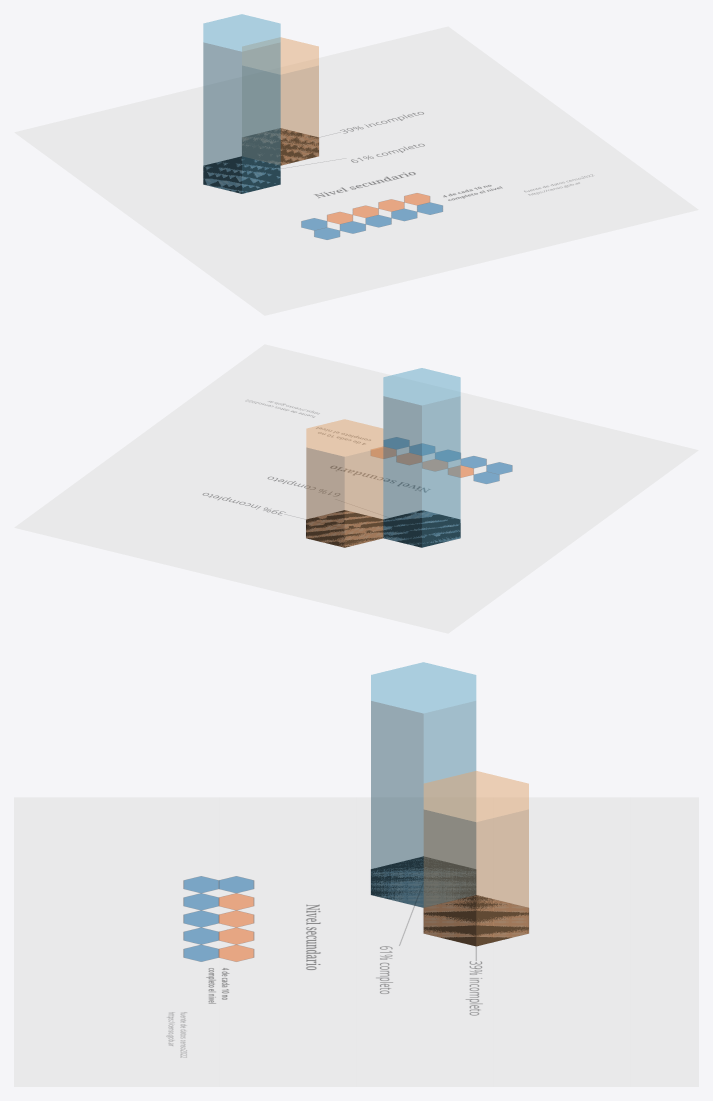
File: secundario.gltf
The picture shows the model from 3 angles, top to bottom: view 1: azimuth 30°, elevation 25°; view 2: azimuth 150°, elevation 25°; view 3: azimuth 270°, elevation 25°; orthographic projection. The views are drawn at different scales.
Parts seen in each view (by area): view 1: GSI Elevation Tile, barras, etiqueta; view 2: GSI Elevation Tile, barras, etiqueta; view 3: GSI Elevation Tile, barras, etiqueta.
Boxes of the visible parts, x1,y1,x2,y2 form: GSI Elevation Tile: (14,26,698,315); barras: (203,14,318,193); etiqueta: (203,128,318,193); GSI Elevation Tile: (14,344,698,633); barras: (306,368,460,547); etiqueta: (306,510,460,547); GSI Elevation Tile: (14,797,698,1086); barras: (371,662,528,946); etiqueta: (371,856,528,946).
Size of the model in its own units: 1949 by 610 by 1949.
4 materials, 1 textured.
